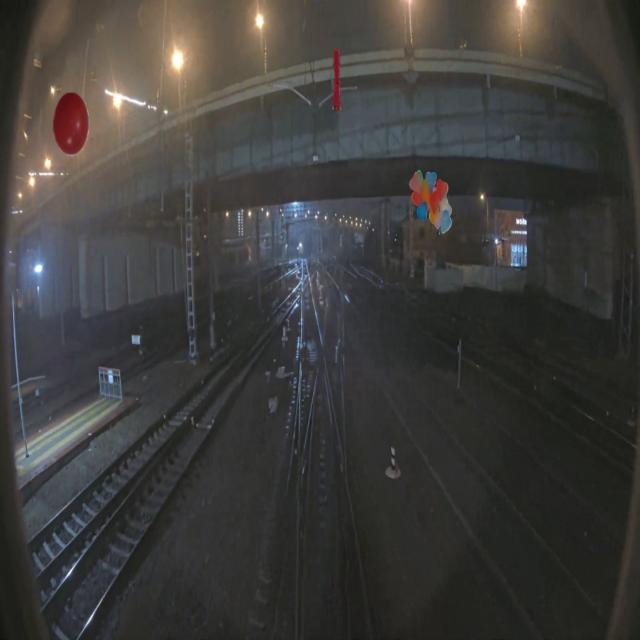balloon: (409, 170, 452, 233), (53, 92, 89, 156)
floating object: (332, 49, 341, 112)
